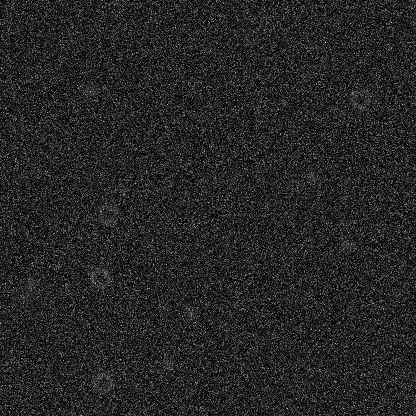Ring: (96, 202, 120, 226), (88, 266, 112, 290), (303, 26, 327, 50), (348, 86, 372, 110), (90, 370, 114, 394)
Spot: (145, 9, 161, 25), (16, 290, 32, 306), (81, 83, 97, 99), (160, 357, 176, 373), (303, 169, 319, 185), (59, 282, 75, 298), (337, 236, 353, 252), (21, 276, 37, 292), (386, 287, 402, 303), (183, 305, 199, 321), (93, 167, 109, 183)
